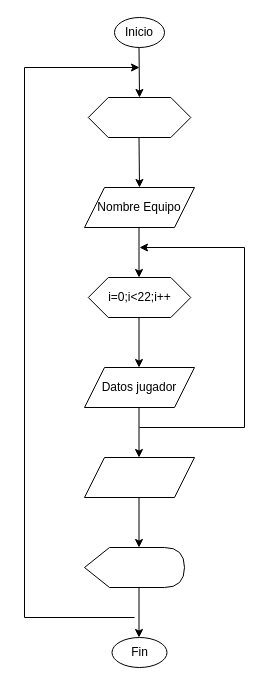
Some shapes in this 270 by 685 pixel diagram are drawn without their labels. The shapes that lost their labels are listed below. From the top down, each one's centre as x and y in pixels, then its label:
At [139,117]: "i=0;i<10;i++".
At [139,477]: "Datos masajista".
At [134,567]: "Datos equipo".
